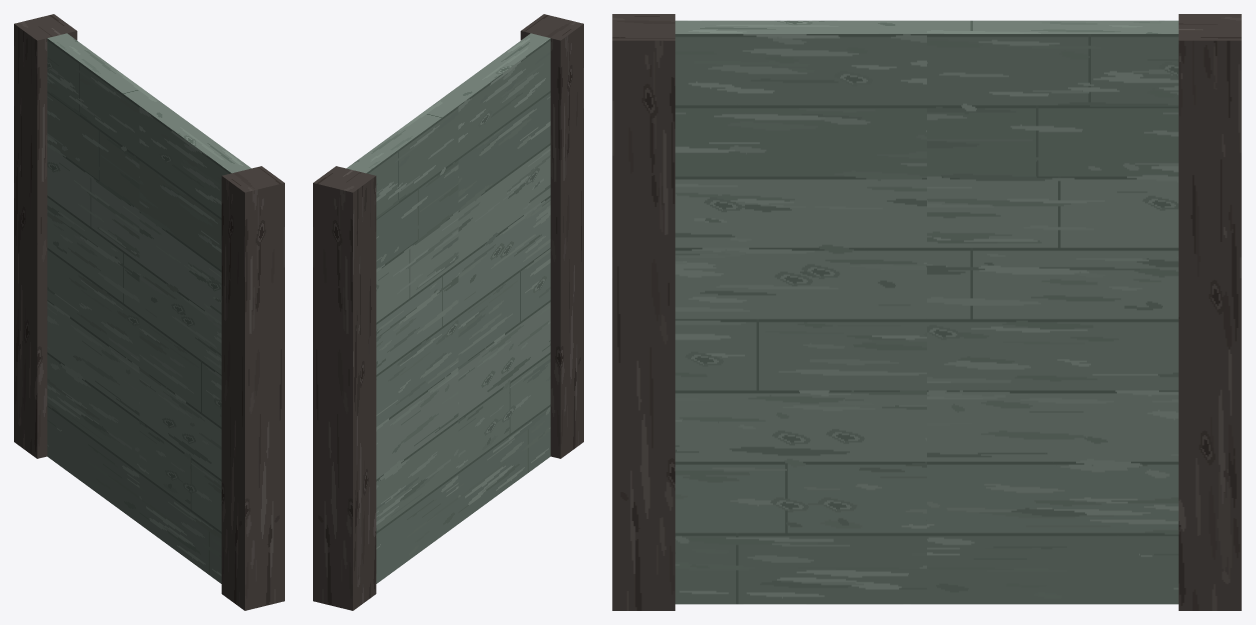
The model's file is wall-wood.gltf.
3 renders of one model, left to right at view 1: azimuth 30°, elevation 25°; view 2: azimuth 150°, elevation 25°; view 3: azimuth 270°, elevation 25°, orthographic. The views are drawn at different scales.
Parts seen in each view (by area): view 1: wall-wood; view 2: wall-wood; view 3: wall-wood.
Part boxes in pixels (x1,y1,x2,y2): wall-wood: (14,14,284,610); wall-wood: (313,14,583,610); wall-wood: (612,14,1241,610).
Bounding box in the file's own units: 0.1 × 1 × 1.
2 materials, 2 textured.
